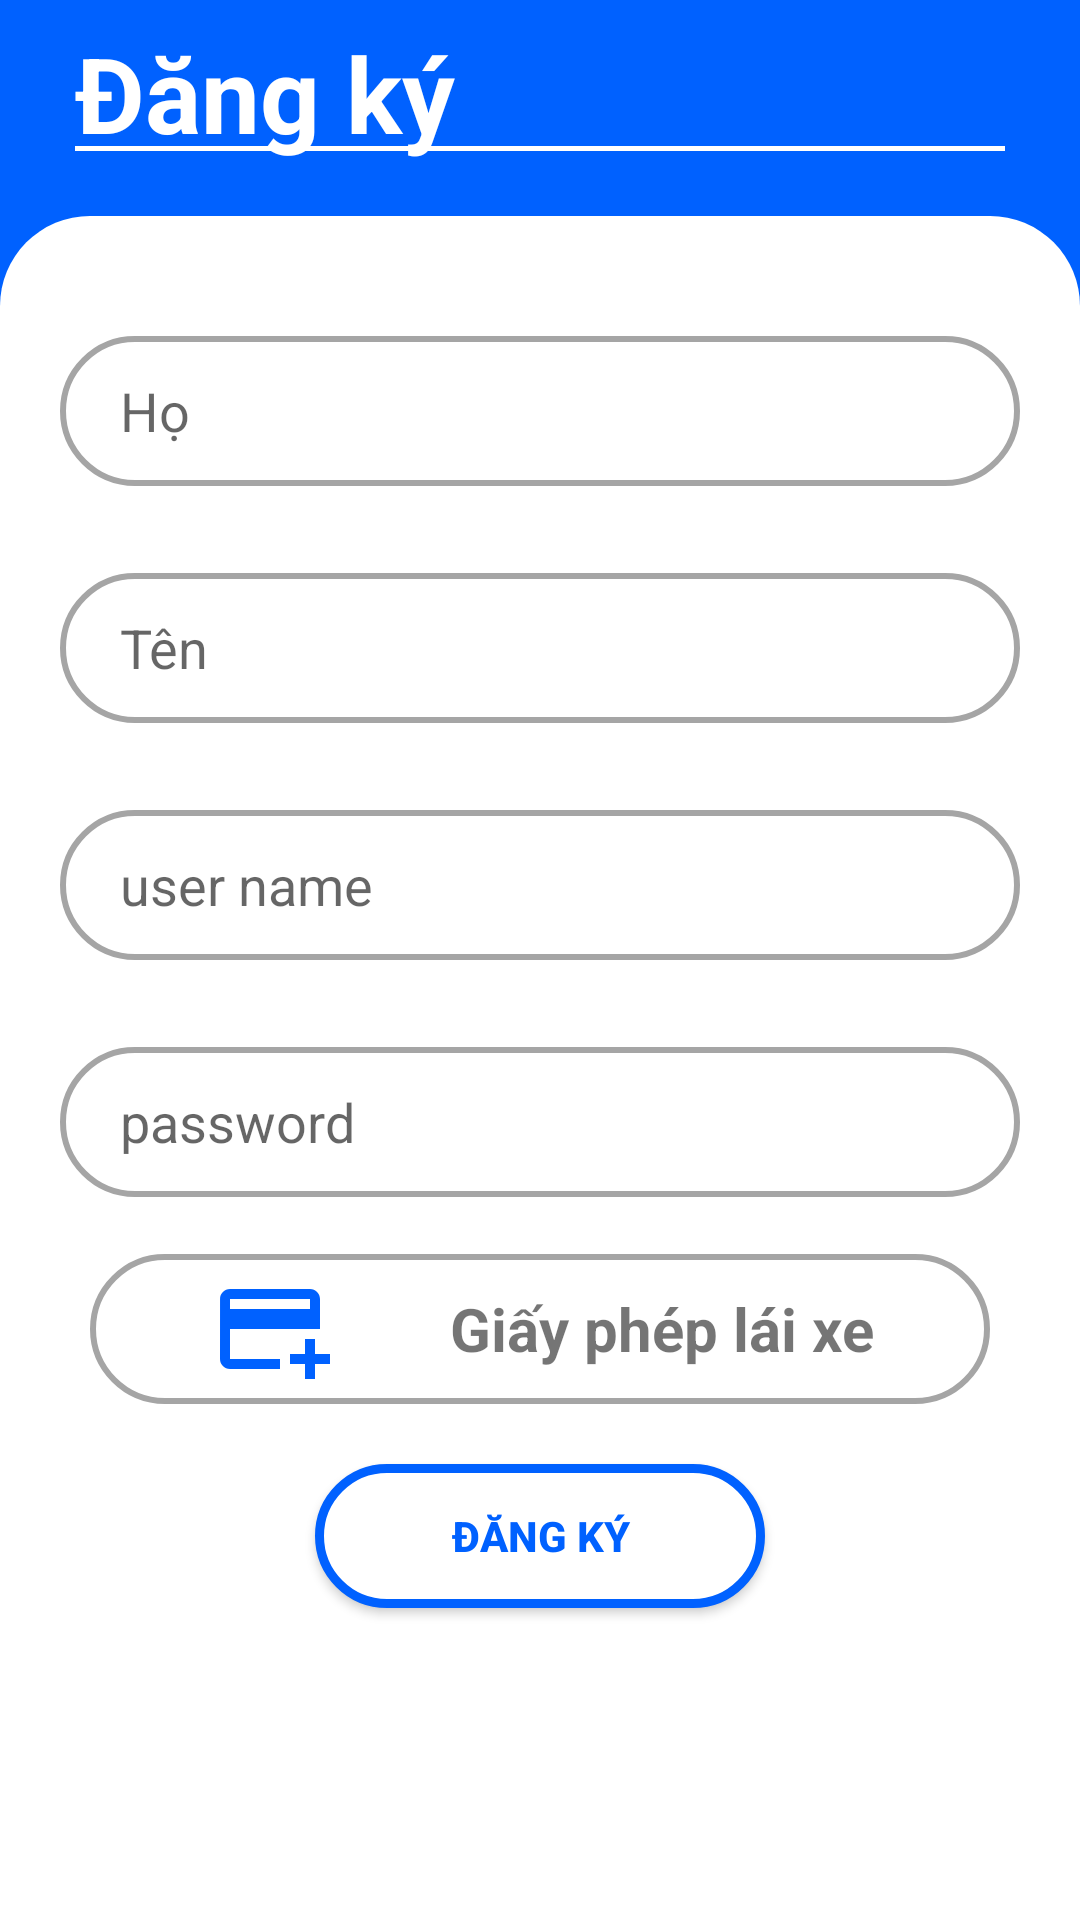

Screen size 1080w x 1920h. Icon name, then its box in pixels as bbox=[x1, y1, x2, y2]:
add card: bbox=[220, 1289, 330, 1379]
